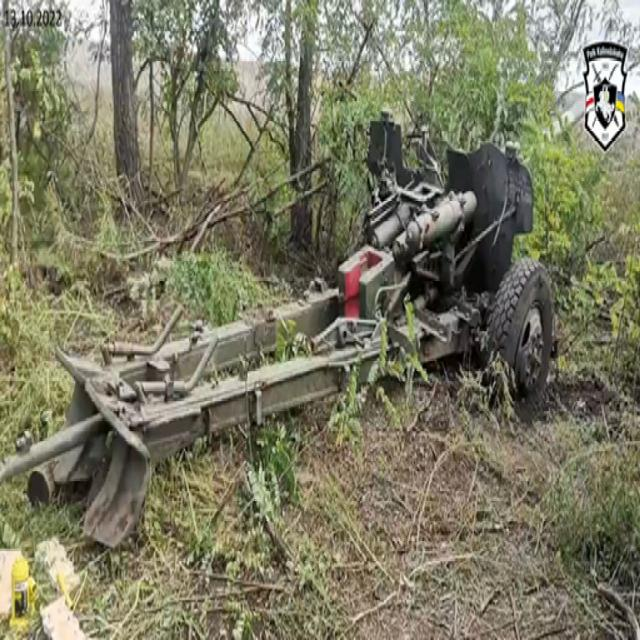ART: (25, 91, 583, 549)
